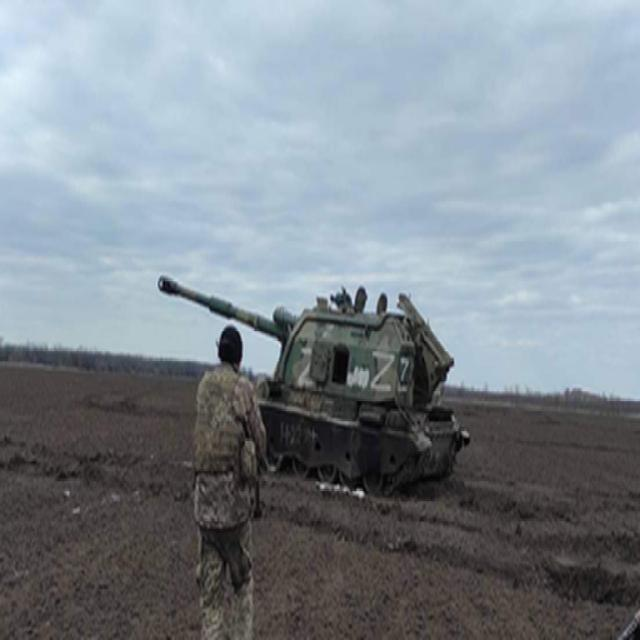ART: (152, 260, 468, 496)
